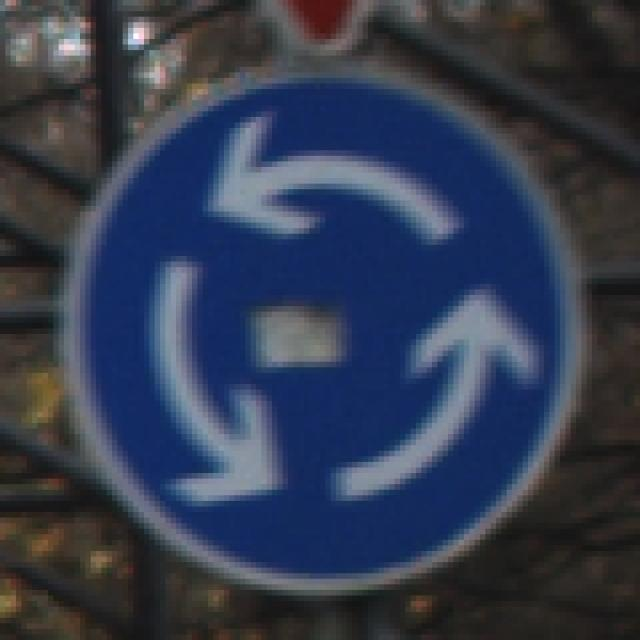roundabout: (47, 56, 595, 598)
